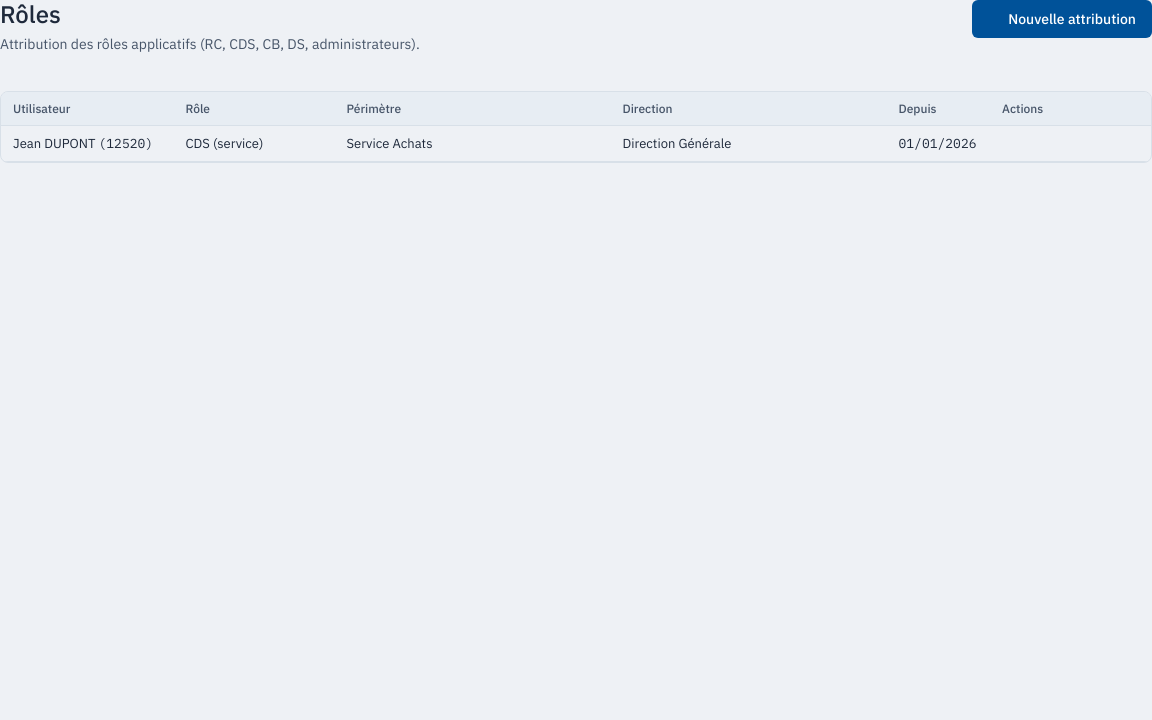
Test: RolesUtilisateurs › affiche le sélecteur de service quand CDS est choisi
Click the button "Nouvelle attribution".
click(1062, 19)  # box [972,0,1151,38]
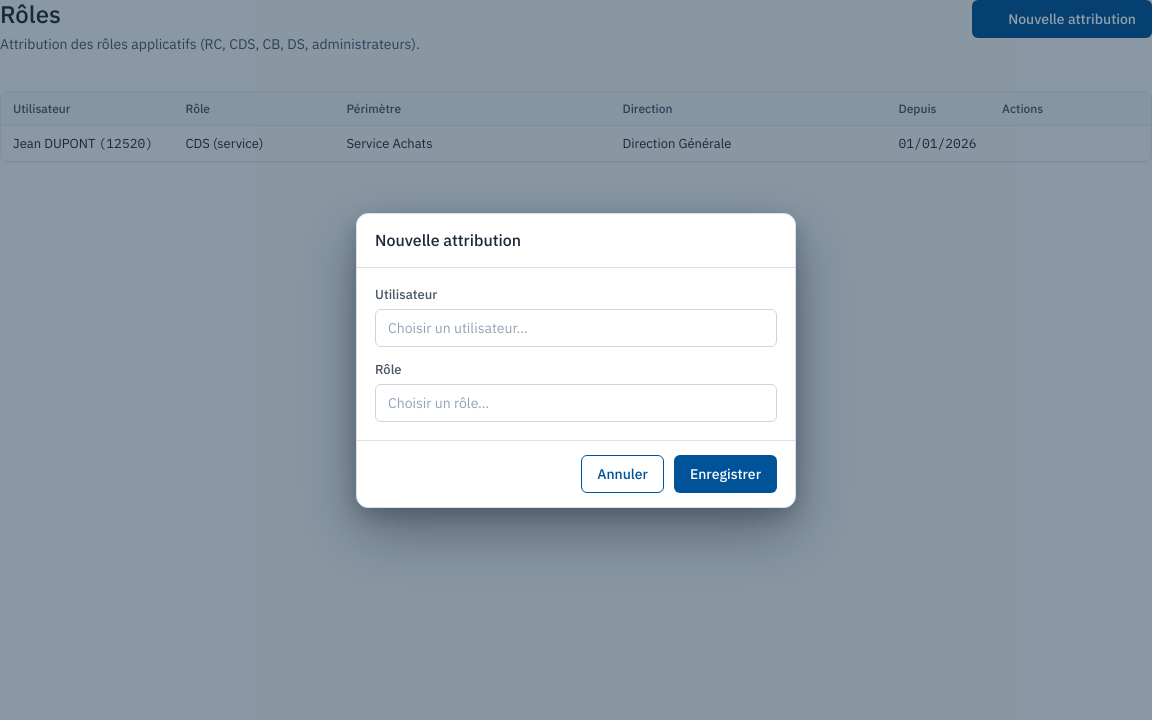
Click the button "Choisir un rôle…".
click(439, 402)  # box [375,384,777,422]
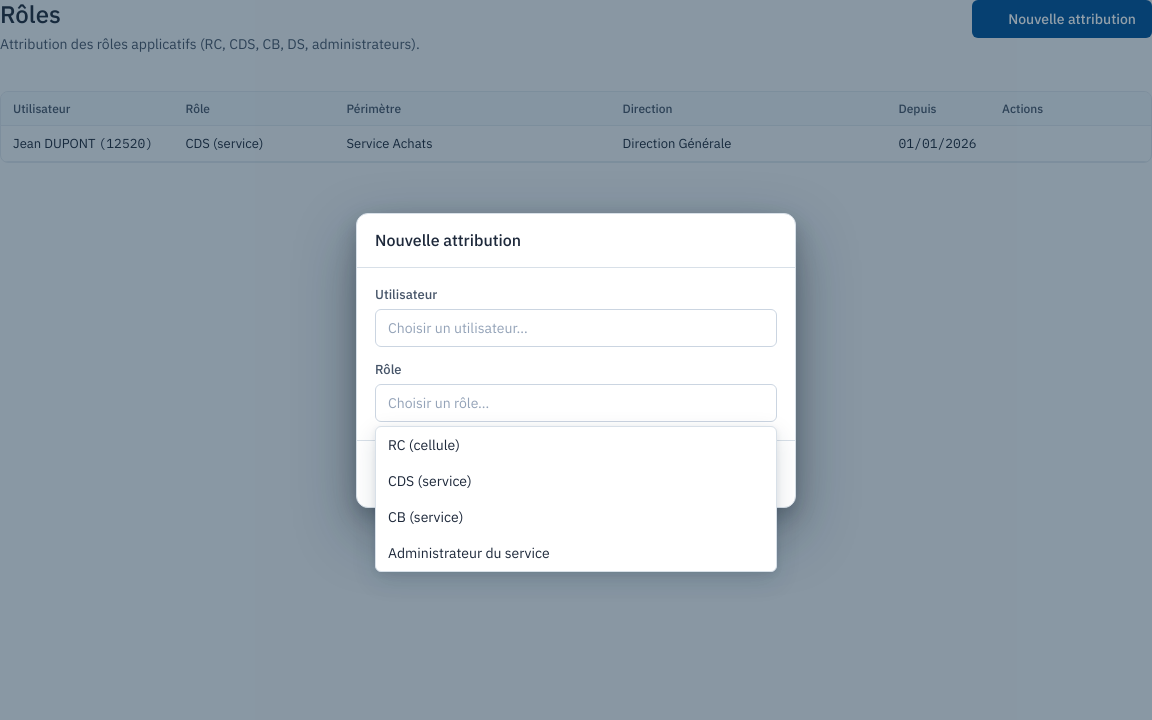
Click the text "CDS (service)".
click(430, 480)  # box [388,472,472,490]
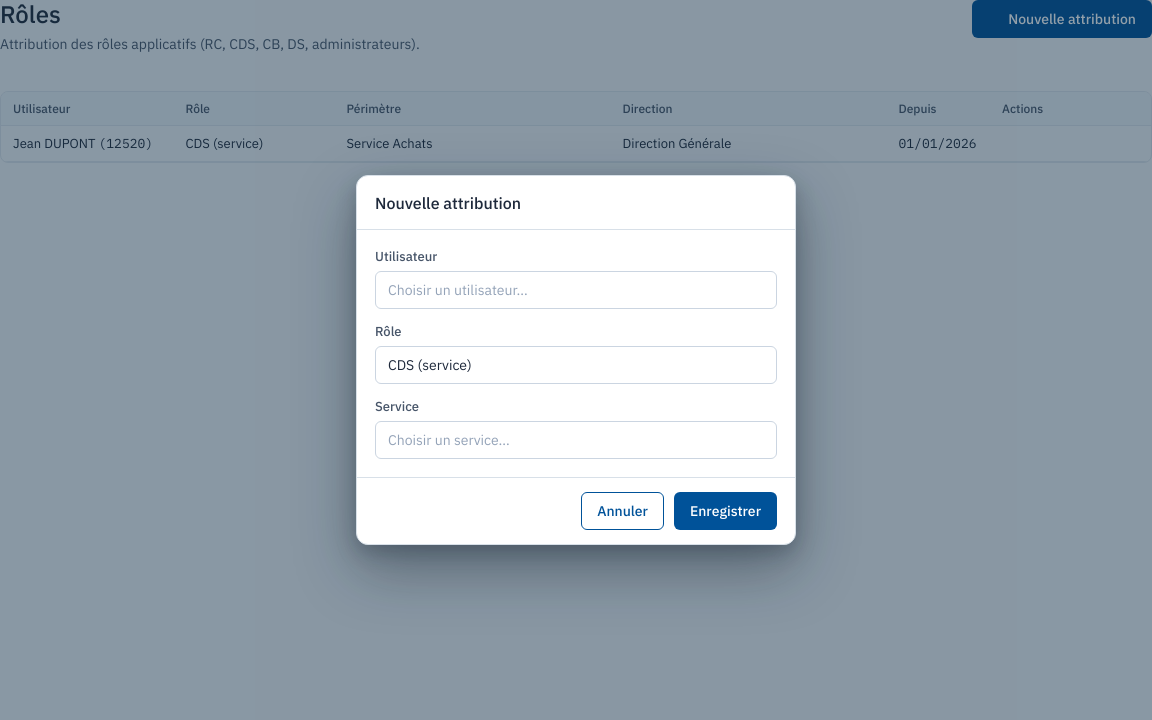
Now the button "Choisir un service…" is shown, box [375,421,777,459]
